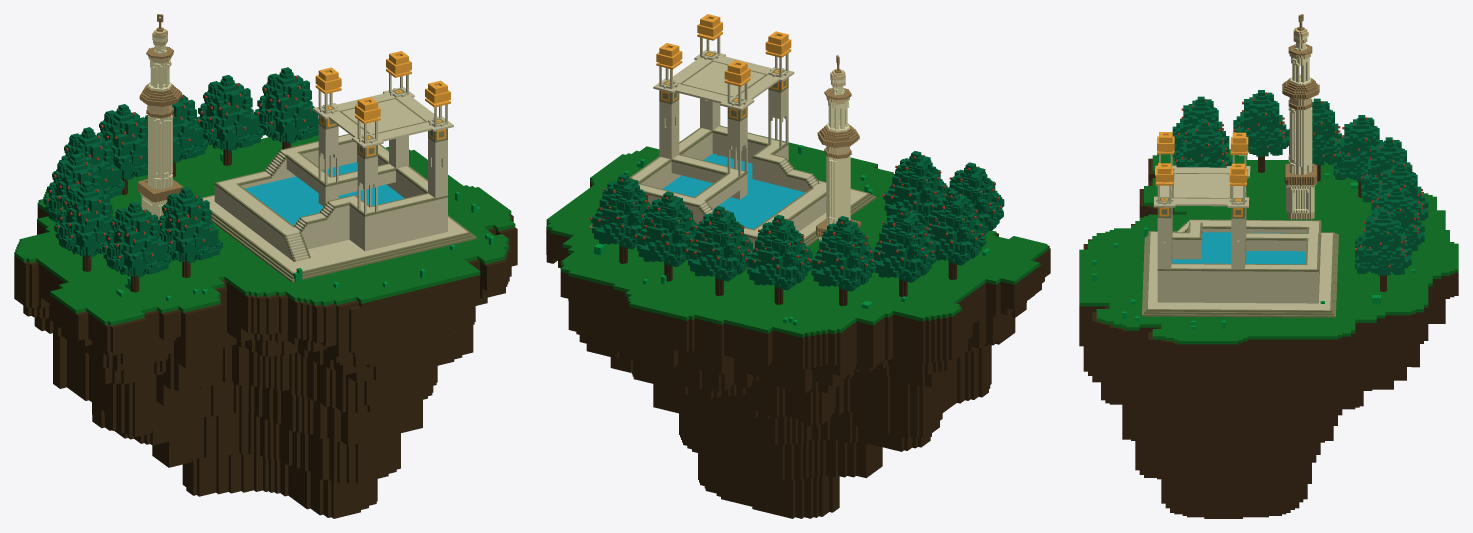
File: 大岛1（音乐光影关）.FBX
3 renders of one model, left to right at view 1: azimuth 30°, elevation 25°; view 2: azimuth 150°, elevation 25°; view 3: azimuth 270°, elevation 25°, orthographic. The views are drawn at different scales.
Visible parts, largest first — view 1: 大岛, 光影音乐关的台子_可放大_, 塔, 树007, 树005, 树008, 树006, 树004, 树002, 树, 树001, 树003; view 2: 大岛, 光影音乐关的台子_可放大_, 塔, 树002, 树, 树003, 树001, 树005, 树004, 树006, 树008, 树007; view 3: 大岛, 光影音乐关的台子_可放大_, 塔, 树006, 树004, 树, 树008, 树001, 树005, 树002, 树003, 树007.
Part boxes in pixels (x1,y1,x2,y2): 大岛: [14, 135, 517, 518]; 光影音乐关的台子_可放大_: [202, 51, 476, 282]; 塔: [138, 14, 183, 219]; 树007: [102, 201, 171, 292]; 树005: [195, 75, 264, 165]; 树008: [158, 187, 222, 277]; 树006: [254, 67, 318, 149]; 树004: [54, 181, 112, 271]; 树002: [96, 104, 147, 194]; 树: [59, 127, 124, 198]; 树001: [43, 154, 112, 222]; 树003: [145, 94, 208, 177]; 大岛: [546, 135, 1050, 518]; 光影音乐关的台子_可放大_: [589, 14, 876, 268]; 塔: [816, 55, 861, 241]; 树002: [745, 214, 812, 304]; 树: [809, 216, 876, 306]; 树003: [685, 206, 752, 295]; 树001: [872, 207, 936, 297]; 树005: [634, 191, 698, 281]; 树004: [926, 190, 986, 280]; 树006: [589, 173, 651, 263]; 树008: [882, 151, 947, 225]; 树007: [945, 162, 1004, 232]; 大岛: [1079, 149, 1458, 518]; 光影音乐关的台子_可放大_: [1142, 132, 1338, 317]; 塔: [1282, 14, 1319, 219]; 树006: [1355, 209, 1411, 291]; 树004: [1233, 90, 1289, 172]; 树: [1333, 115, 1382, 197]; 树008: [1176, 120, 1232, 167]; 树001: [1289, 98, 1341, 181]; 树005: [1368, 185, 1424, 251]; 树002: [1361, 137, 1413, 202]; 树003: [1371, 161, 1428, 224]; 树007: [1172, 96, 1229, 160].
Size of the model in its own units: 256 by 270 by 214.
